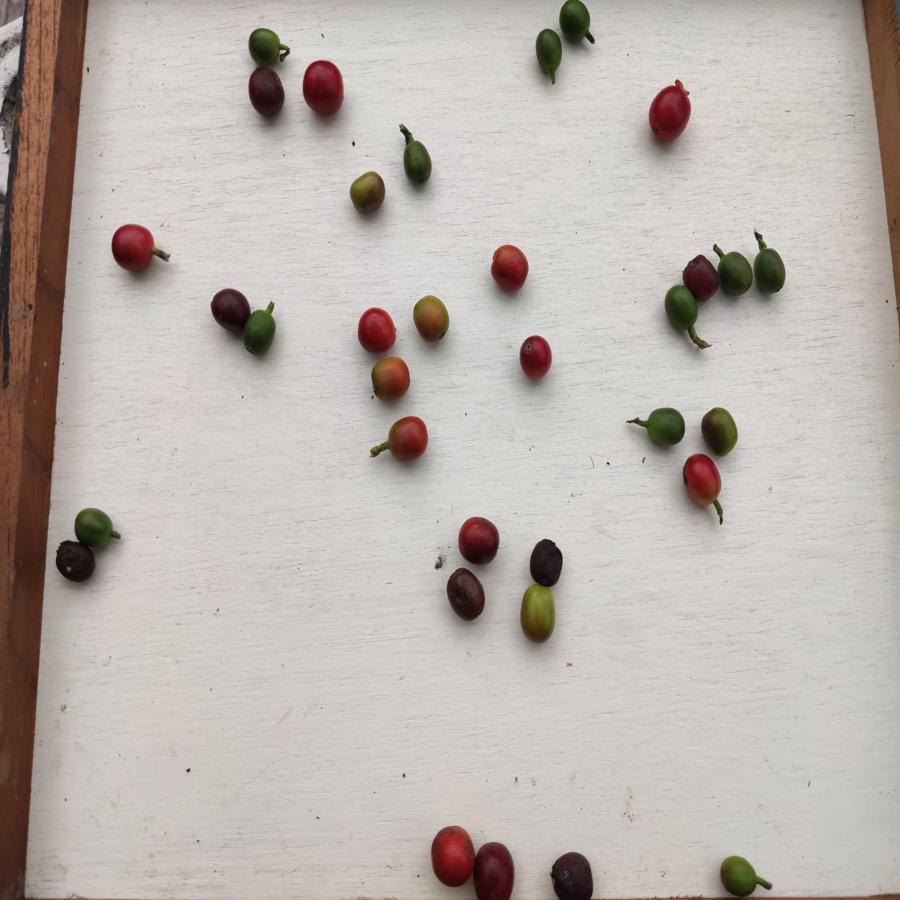Inmaduro: (716, 846, 758, 897), (702, 405, 743, 456), (72, 503, 115, 550), (245, 307, 283, 360), (642, 405, 686, 449), (718, 251, 754, 302), (755, 245, 788, 297), (558, 1, 595, 46), (532, 29, 567, 76), (246, 24, 286, 64), (401, 141, 434, 186), (666, 286, 699, 331)
Maduro: (109, 218, 174, 276), (428, 821, 476, 892), (649, 79, 694, 144), (300, 59, 349, 117), (376, 417, 436, 463), (680, 450, 724, 508), (354, 305, 402, 354), (489, 241, 530, 295), (519, 332, 558, 384)
Pinton: (519, 584, 559, 641), (369, 356, 416, 400), (411, 293, 451, 343), (346, 169, 387, 214)
Sobremaduro: (475, 839, 520, 900), (455, 511, 503, 566), (446, 564, 489, 624), (244, 66, 289, 120), (549, 851, 595, 900), (529, 535, 569, 586), (54, 539, 96, 583), (209, 287, 250, 331), (683, 253, 719, 301)
